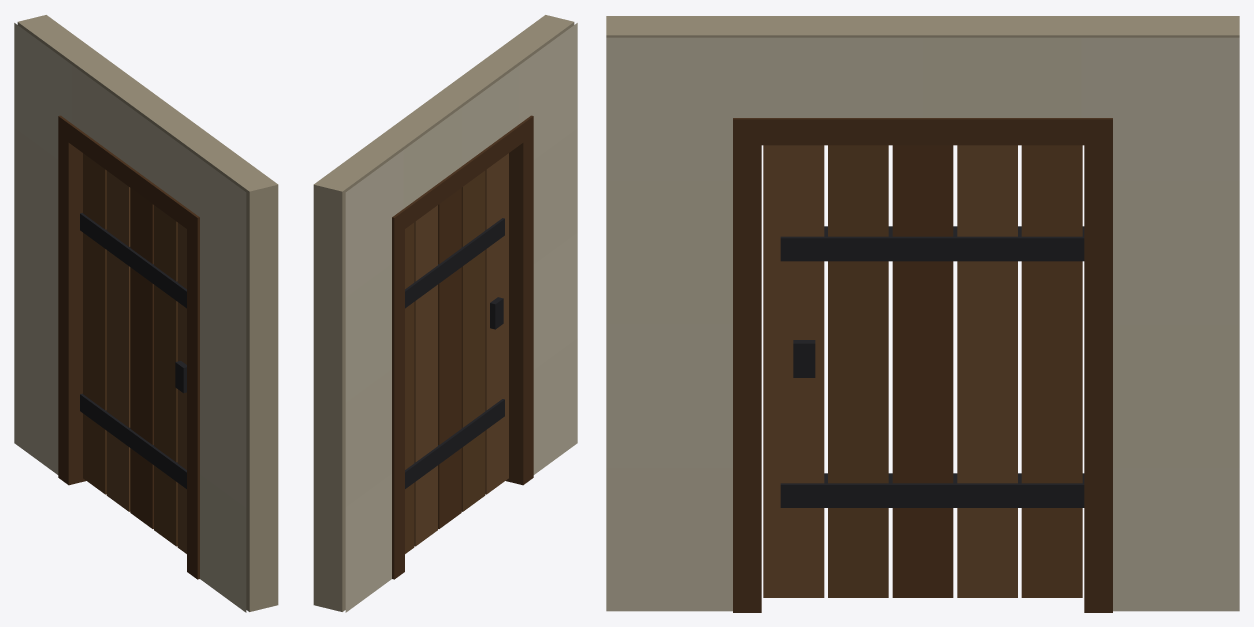
The model's file is wall-plaster-door.glb.
3 renders of one model, left to right at view 1: azimuth 30°, elevation 25°; view 2: azimuth 150°, elevation 25°; view 3: azimuth 270°, elevation 25°, orthographic. The views are drawn at different scales.
Visible parts, largest first — view 1: wall-plaster-door; view 2: wall-plaster-door; view 3: wall-plaster-door.
Boxes of the visible parts, x1,y1,x2,y2 form: wall-plaster-door: [14, 15, 278, 612]; wall-plaster-door: [313, 15, 577, 612]; wall-plaster-door: [606, 16, 1239, 612].
Bounding box in the file's own units: 0.1 × 1 × 1.
